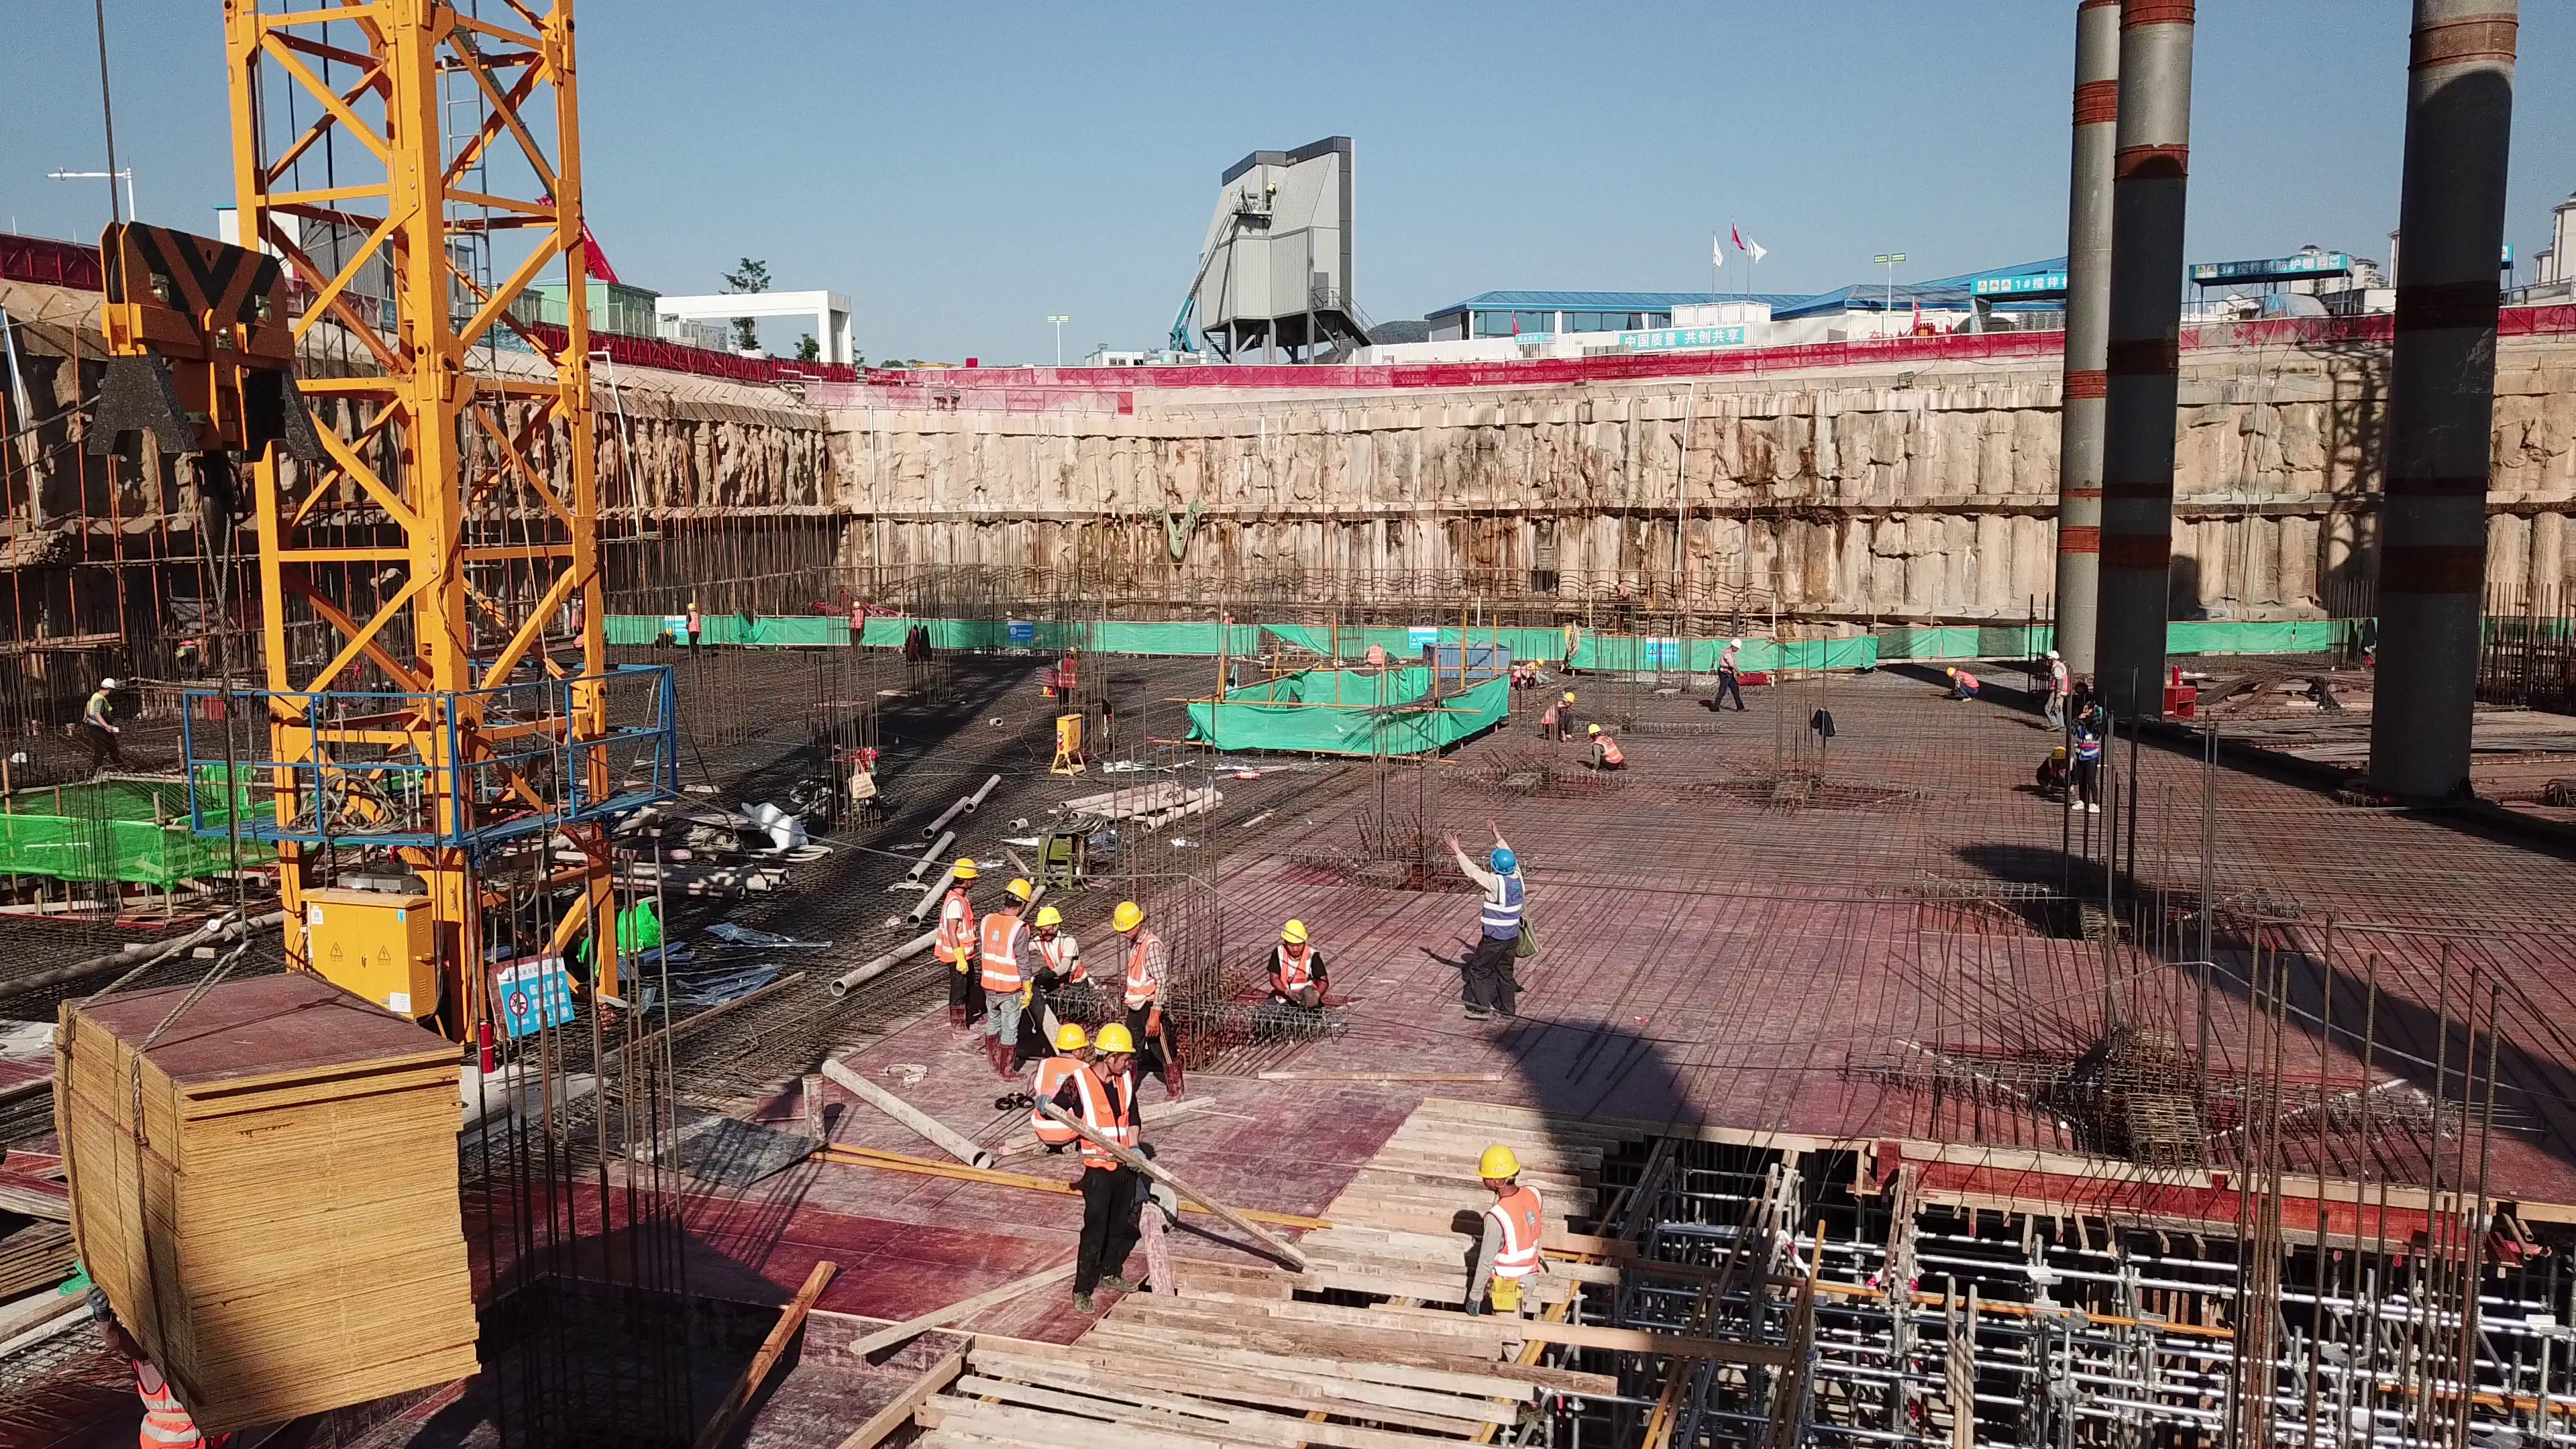helmet: (1472, 1146, 1521, 1189), (1093, 1020, 1135, 1052), (1106, 902, 1150, 929), (1052, 1022, 1092, 1053), (1001, 877, 1037, 906), (1035, 902, 1063, 930), (1489, 848, 1521, 870), (954, 853, 977, 879), (1277, 922, 1311, 940), (2041, 645, 2060, 661), (1729, 636, 1744, 653), (98, 675, 117, 689), (2051, 745, 2067, 759), (685, 600, 699, 613), (1563, 690, 1577, 703), (1065, 645, 1079, 657), (1584, 722, 1599, 733), (1945, 665, 1955, 682), (852, 600, 861, 608), (1534, 657, 1544, 663)
person: (1452, 813, 1541, 1049), (1083, 1023, 1149, 1303), (1468, 1129, 1557, 1326), (984, 875, 1030, 1085), (1110, 888, 1177, 1020), (1254, 913, 1332, 1016), (941, 852, 980, 1043), (1034, 1017, 1085, 1149), (81, 663, 127, 781), (1031, 905, 1094, 988), (2075, 688, 2112, 813), (1585, 720, 1631, 780), (2031, 740, 2076, 802), (2040, 648, 2072, 729), (1717, 634, 1749, 712), (1053, 643, 1087, 708), (1942, 661, 1989, 709), (1509, 653, 1549, 700), (848, 601, 873, 667), (1542, 692, 1575, 743), (681, 593, 702, 662), (574, 627, 609, 657), (1361, 641, 1390, 674), (569, 595, 591, 629), (1610, 580, 1633, 603)
vest: (1492, 1197, 1544, 1286), (1080, 1075, 1128, 1165), (980, 920, 1030, 993), (1124, 935, 1165, 1008), (1040, 1062, 1078, 1136), (1276, 953, 1326, 1000), (1486, 873, 1523, 933), (944, 890, 969, 965), (2077, 712, 2102, 755), (88, 693, 115, 728), (2035, 763, 2070, 786), (2049, 660, 2068, 698), (1059, 657, 1079, 694), (1594, 739, 1623, 762), (1959, 669, 1979, 696), (1721, 648, 1737, 678), (1546, 702, 1562, 732), (684, 613, 702, 635), (849, 612, 868, 632), (1365, 646, 1383, 667)
